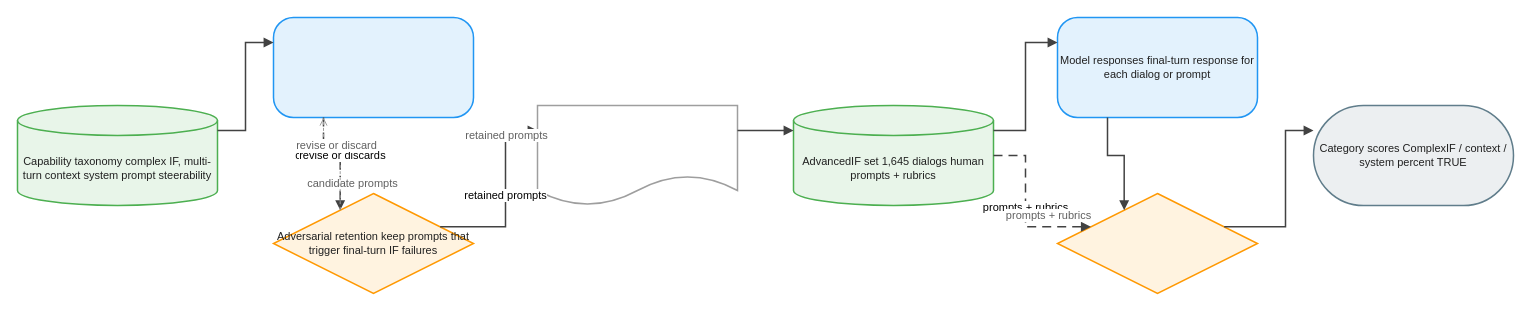
This 1532x312 diagram has some shape labels left out. Here are the shapes that lost their labels. From the top down, the centre of each, then its label:
the point at 373,67: Expert prompt writing human-authored prompts category-focused instructions
the point at 637,155: Expert rubrics up to 20 criteria human review rounds
the point at 1157,243: Rubric verifier o3-mini checks each criterion TRUE only if all pass
